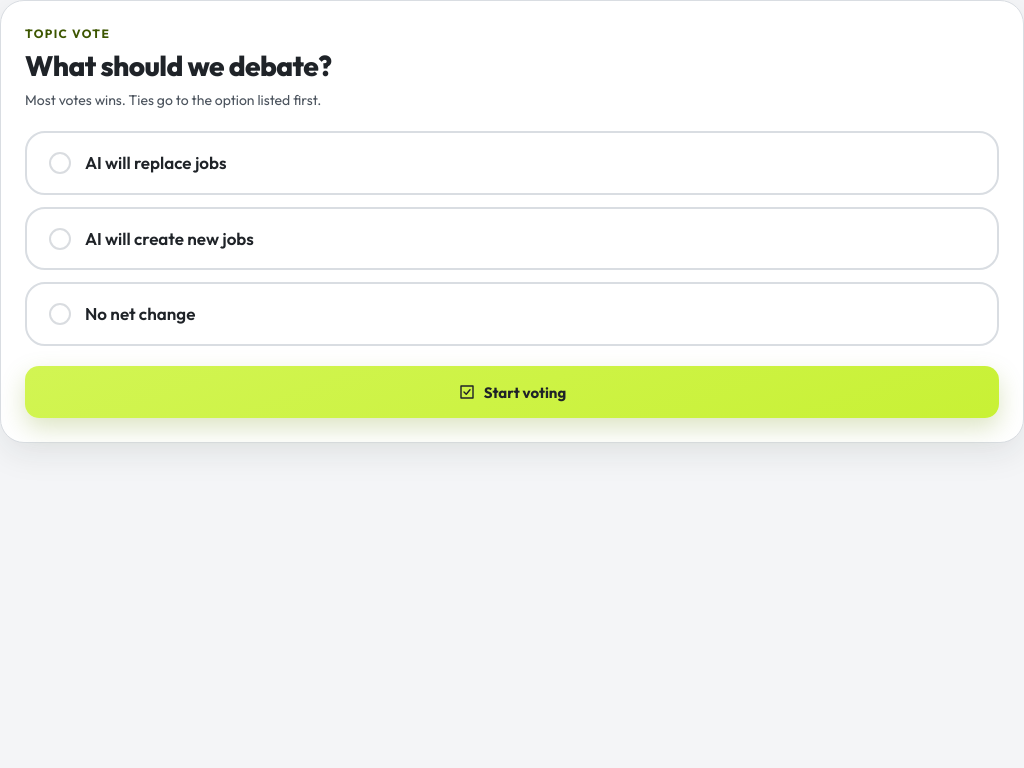
Test case: VotingPanel — host starts voting › optimistically shows the timer after clicking Start Voting
This screenshot has width=1024, height=768.
Step 1. Click the button "Start voting" → (512, 392), box [25, 366, 999, 418]
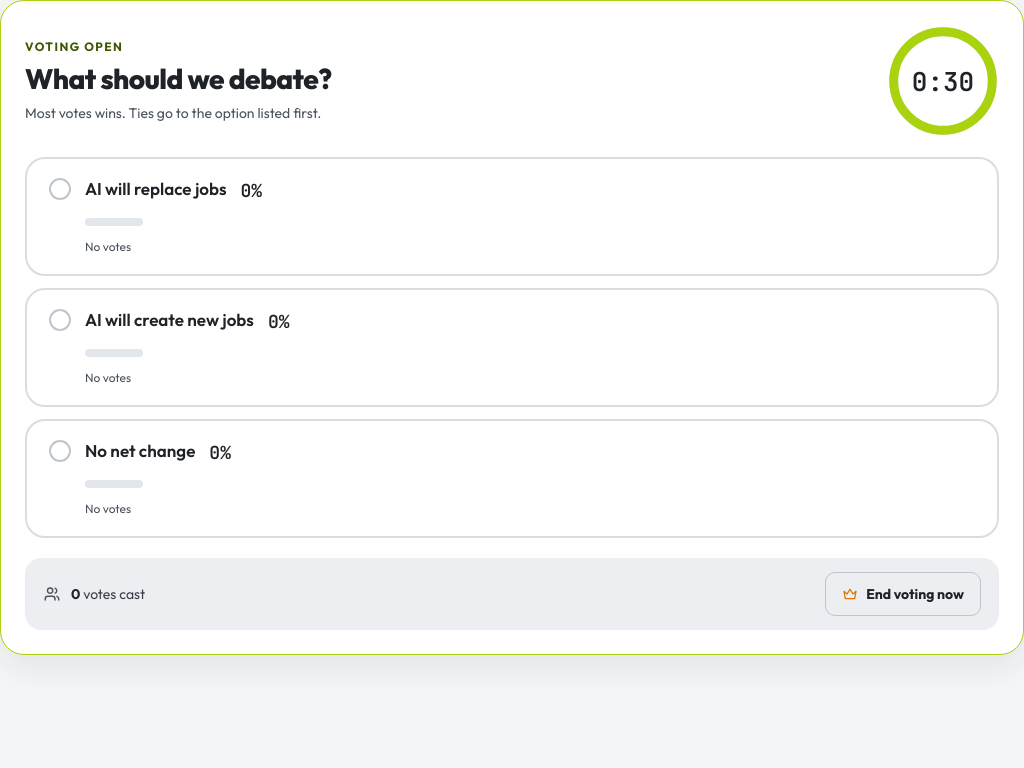
Check: the text "0:30" is shown, box [912, 64, 974, 98]
